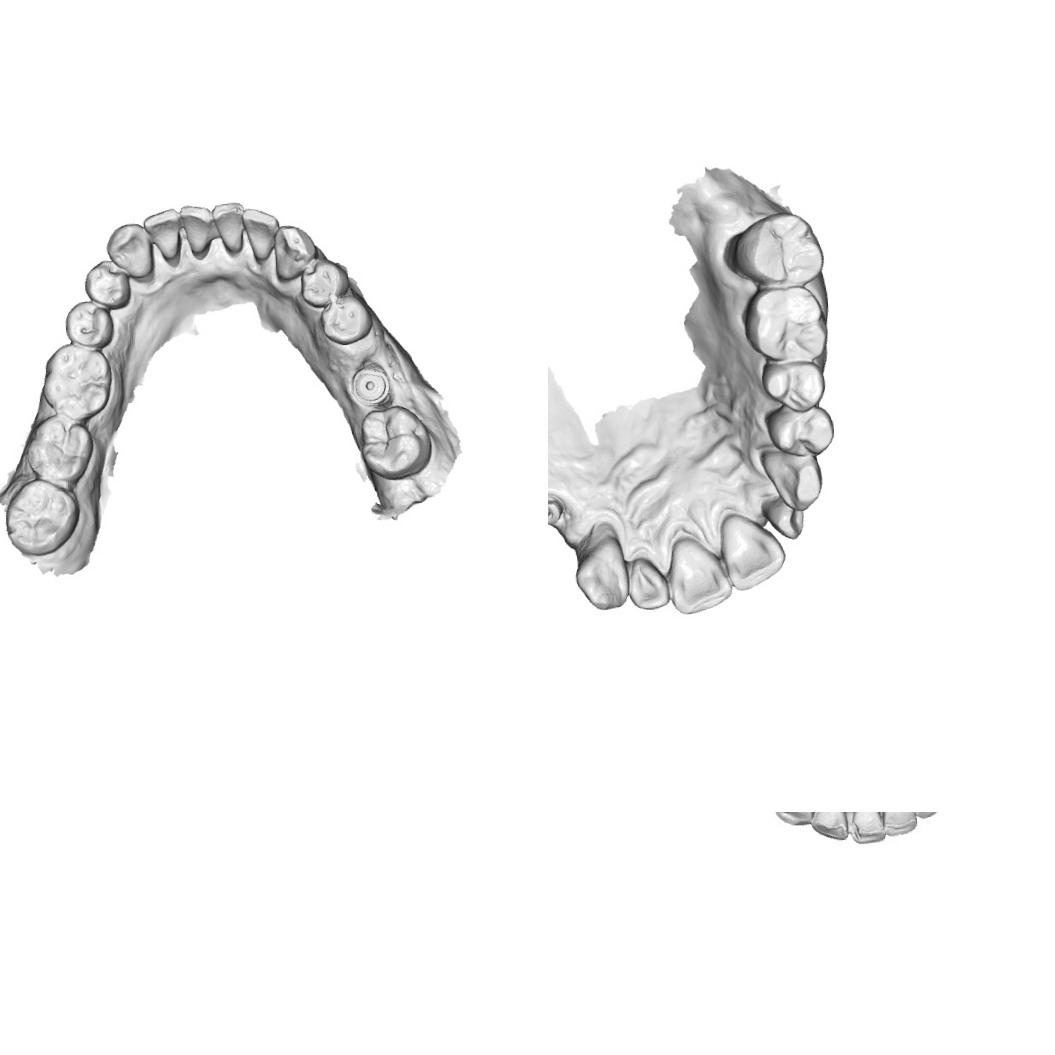canine: (570, 521, 630, 613), (758, 445, 829, 515), (103, 220, 156, 282), (270, 221, 319, 282), (769, 812, 814, 829)
implant: (349, 362, 391, 404)
implant_plus: (548, 491, 566, 527)
incisor: (717, 508, 790, 592), (663, 532, 734, 617), (624, 554, 670, 611), (140, 206, 183, 266), (239, 205, 282, 262), (761, 494, 806, 542), (178, 201, 214, 259), (210, 200, 246, 256), (842, 812, 887, 848), (807, 812, 851, 843), (877, 812, 919, 835)
molar: (720, 208, 826, 292), (740, 282, 829, 364), (0, 474, 82, 558), (38, 338, 115, 422), (356, 402, 434, 482), (22, 410, 96, 489)
premolar: (763, 399, 836, 460), (758, 358, 827, 414), (317, 290, 374, 346), (62, 296, 116, 350), (298, 255, 350, 308), (82, 258, 132, 310)
